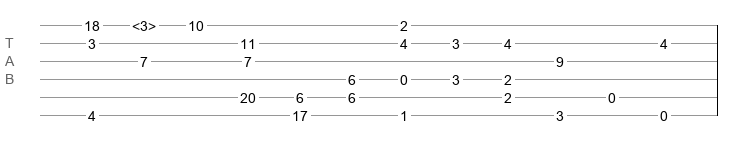0: (400, 72, 408, 82), (608, 90, 616, 100), (660, 108, 668, 118)
1: (400, 108, 408, 118)
10: (188, 18, 204, 28)
11: (240, 36, 256, 46)
17: (292, 108, 308, 118)
18: (84, 18, 100, 28)
2: (400, 18, 408, 28), (504, 72, 512, 82), (504, 90, 512, 100)
20: (240, 90, 256, 100)
3: (88, 36, 96, 46), (452, 72, 460, 82), (452, 36, 460, 46), (556, 108, 564, 118)
4: (88, 108, 96, 118), (400, 36, 408, 46), (504, 36, 512, 46), (660, 36, 668, 46)
6: (296, 90, 304, 100), (348, 90, 356, 100), (348, 72, 356, 82)
7: (140, 54, 148, 64), (244, 54, 252, 64)
9: (556, 54, 564, 64)
harmonic: (132, 18, 156, 28)
